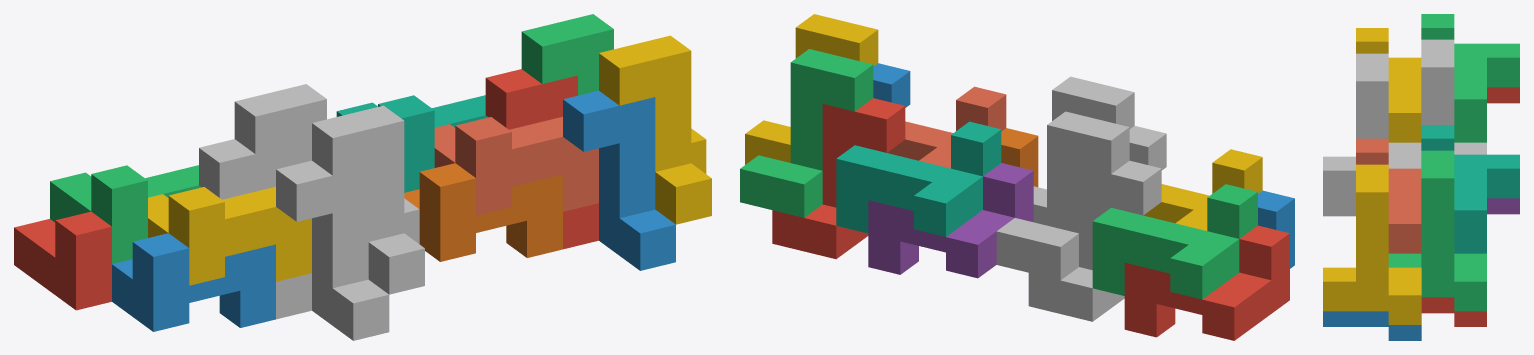
The model's file is tiling.obj.
3 renders of one model, left to right at view 1: azimuth 30°, elevation 25°; view 2: azimuth 150°, elevation 25°; view 3: azimuth 270°, elevation 25°, orthographic. The views are drawn at different scales.
Parts seen in each view (by area): view 1: copy_2_domain_2, copy_2_domain_6, copy_2_domain_4, copy_2_domain_8, copy_1_domain_2, copy_1_domain_8, copy_1_domain_4, copy_1_domain_6, copy_1_domain_1, copy_1_domain_3, copy_2_domain_5, copy_2_domain_1 (+3 smaller); view 2: copy_1_domain_3, copy_1_domain_7, copy_2_domain_7, copy_1_domain_1, copy_2_domain_3, copy_1_domain_5, copy_2_domain_5, copy_2_domain_1, copy_2_domain_8, copy_1_domain_4, copy_1_domain_8, copy_2_domain_4 (+4 smaller); view 3: copy_2_domain_8, copy_2_domain_7, copy_1_domain_3, copy_1_domain_7, copy_2_domain_4, copy_2_domain_3, copy_1_domain_8, copy_1_domain_4, copy_2_domain_6, copy_2_domain_5, copy_1_domain_1, copy_1_domain_5 (+1 smaller).
Boxes of the visible parts, box(x1,y1,x2,y2) form: copy_2_domain_2: box(276, 160, 389, 340); copy_2_domain_6: box(563, 90, 675, 270); copy_2_domain_4: box(312, 105, 424, 294); copy_2_domain_8: box(599, 35, 711, 224); copy_1_domain_2: box(112, 233, 275, 331); copy_1_domain_8: box(434, 116, 598, 215); copy_1_domain_4: box(148, 186, 311, 285); copy_1_domain_6: box(404, 163, 562, 261); copy_1_domain_1: box(14, 211, 111, 310); copy_1_domain_3: box(50, 165, 201, 263); copy_2_domain_5: box(485, 69, 598, 249); copy_2_domain_1: box(199, 139, 311, 319); copy_1_domain_3: box(1092, 184, 1257, 299); copy_1_domain_7: box(836, 121, 1001, 236); copy_2_domain_7: box(740, 49, 873, 217); copy_1_domain_1: box(1124, 225, 1289, 340); copy_2_domain_3: box(996, 111, 1129, 280); copy_1_domain_5: box(868, 163, 1033, 278); copy_2_domain_5: box(772, 98, 905, 259); copy_2_domain_1: box(1028, 160, 1161, 321); copy_2_domain_8: box(745, 14, 878, 164); copy_1_domain_4: box(1143, 149, 1262, 230); copy_1_domain_8: box(887, 86, 1006, 168); copy_2_domain_4: box(1033, 76, 1134, 225); copy_2_domain_8: box(1323, 164, 1421, 324); copy_2_domain_7: box(1388, 150, 1486, 311); copy_1_domain_3: box(1421, 14, 1519, 142); copy_1_domain_7: box(1421, 125, 1519, 253); copy_2_domain_4: box(1323, 53, 1421, 200); copy_2_domain_3: box(1388, 39, 1486, 156); copy_1_domain_8: box(1356, 138, 1421, 253); copy_1_domain_4: box(1356, 28, 1421, 142); copy_2_domain_6: box(1323, 311, 1421, 340); copy_2_domain_5: box(1421, 297, 1486, 326); copy_1_domain_1: box(1487, 87, 1519, 103); copy_1_domain_5: box(1487, 198, 1519, 214).
Size of the model in its own units: 17 by 5 by 6.
